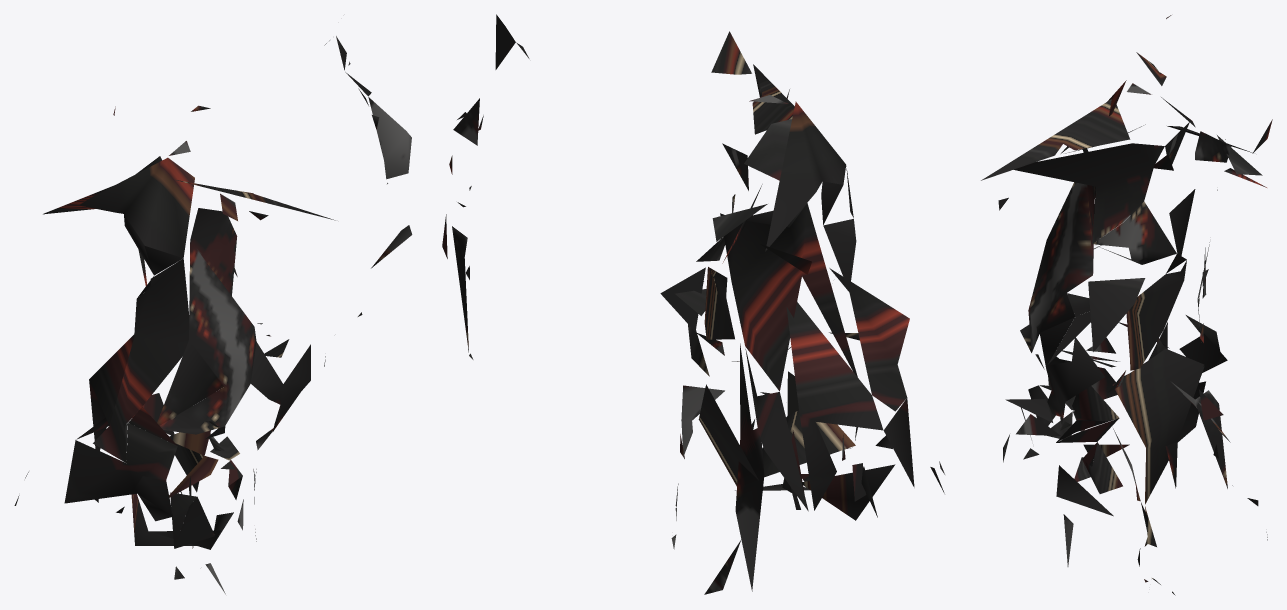
The picture shows the model from 3 angles, left to right: view 1: azimuth 30°, elevation 25°; view 2: azimuth 150°, elevation 25°; view 3: azimuth 270°, elevation 25°; orthographic projection. The views are drawn at different scales.
Visible parts, largest first — view 1: body.002; view 2: body.002; view 3: body.002.
Part boxes in pixels (left/top/right/bottom): body.002: left=14, top=36, right=412, bottom=594; body.002: left=442, top=14, right=944, bottom=594; body.002: left=981, top=15, right=1272, bottom=595.
Bounding box in the file's own units: 1.8 × 2 × 0.969.
1 material, 1 textured.
